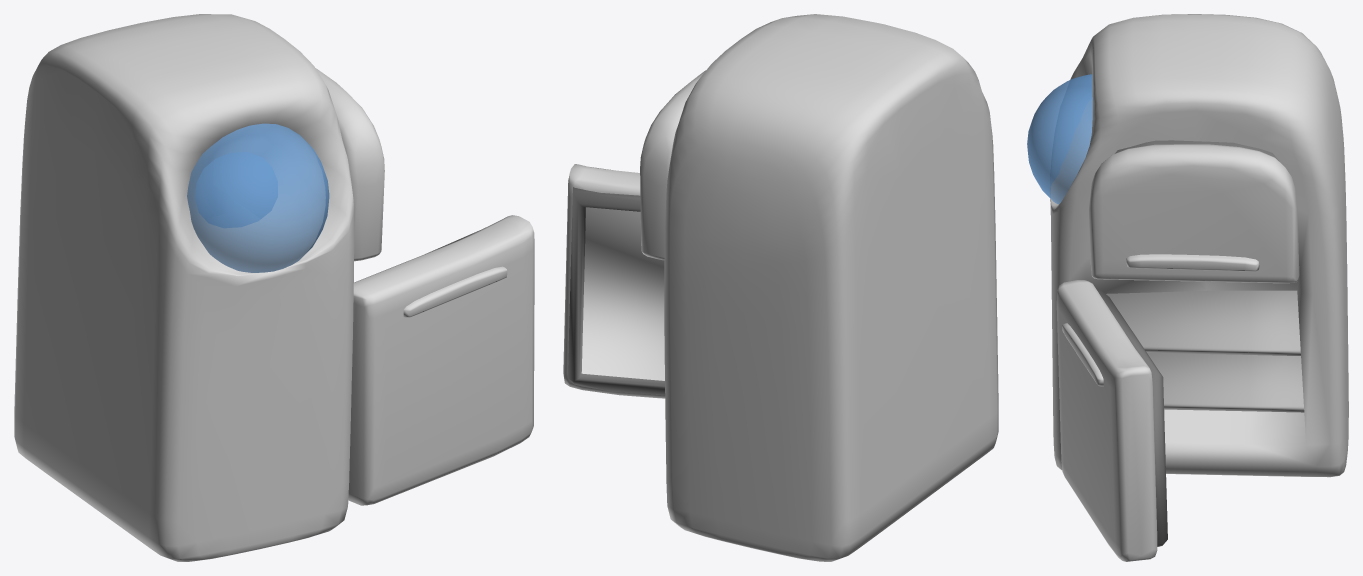
The model's file is heladera_open.glb.
3 views of the same model, side by side, from view 1: azimuth 30°, elevation 25°; view 2: azimuth 150°, elevation 25°; view 3: azimuth 270°, elevation 25° (orthographic). The views are drawn at different scales.
Visible parts, largest first — view 1: heladera_open; view 2: heladera_open; view 3: heladera_open.
Part boxes in pixels (x1=…): heladera_open: x1=14, y1=14, x2=534, y2=561; heladera_open: x1=563, y1=14, x2=998, y2=561; heladera_open: x1=1027, y1=14, x2=1348, y2=561.
Size of what is drawn, in the model's own units: 3.49 by 3.66 by 2.68.
